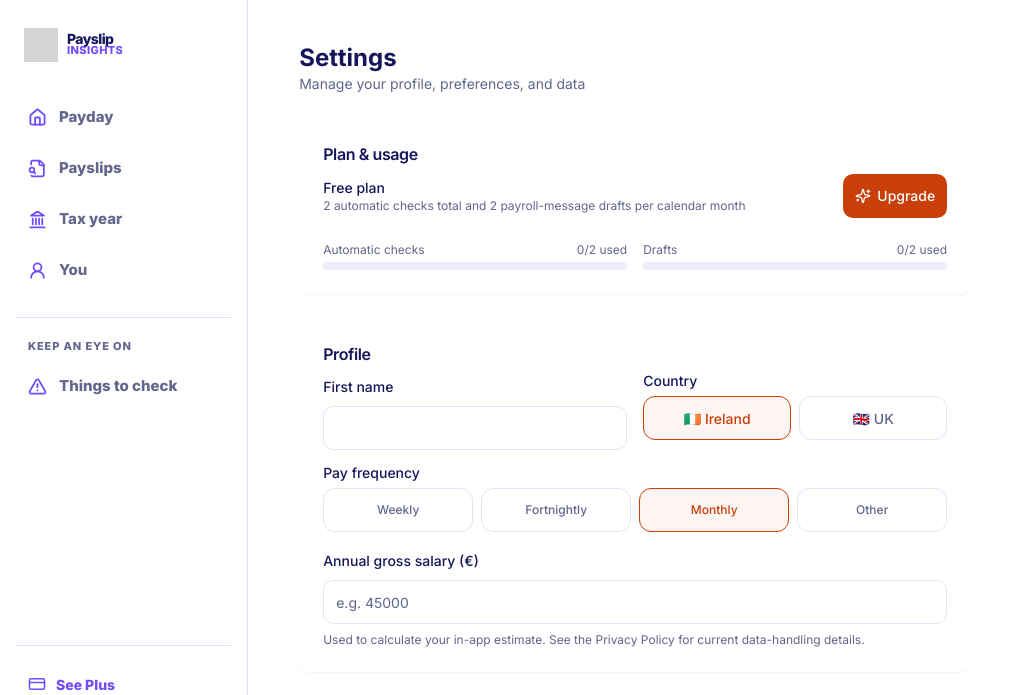
Test: Settings › uses native radio controls and labelled switches that remain keyboard-operable
The image size is (1024, 695).
Step 1. Click the radio button labelled "🇮🇪 Ireland" → (717,418), box x1=643 y1=396 x2=791 y2=440
(page scrolled)
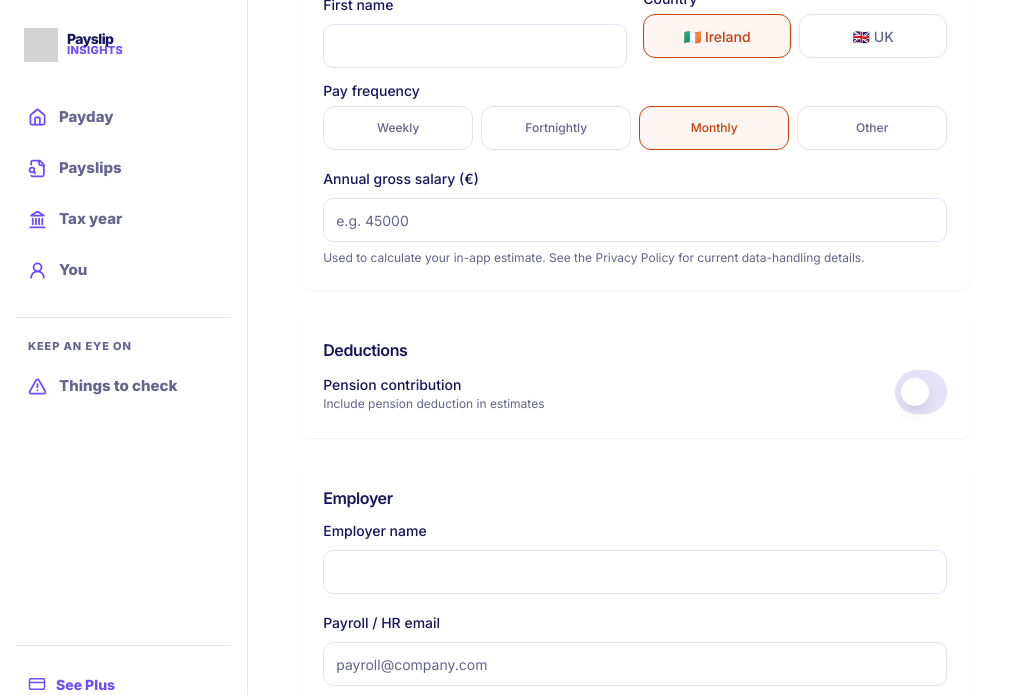
expect the radio button labelled "🇮🇪 Ireland" is checked: met, box x1=643 y1=14 x2=791 y2=58
Step 2. Click the text "Pension contribution" → (392,384), box x1=323 y1=376 x2=462 y2=393
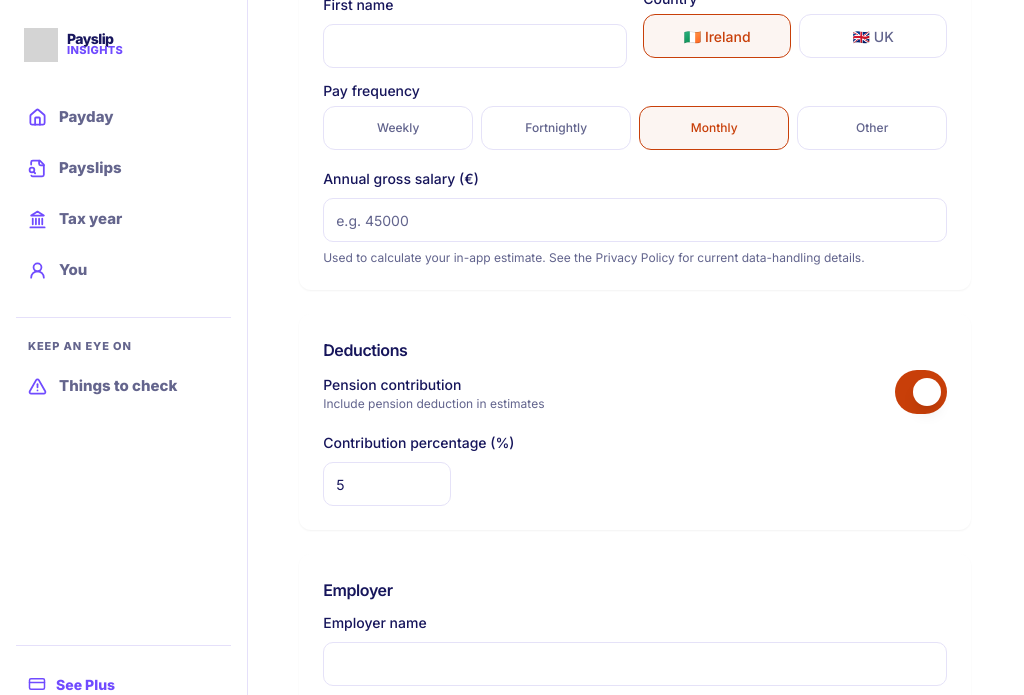
expect the number field labelled "Contribution percentage (%)" is shown: met, box x1=323 y1=462 x2=451 y2=506
